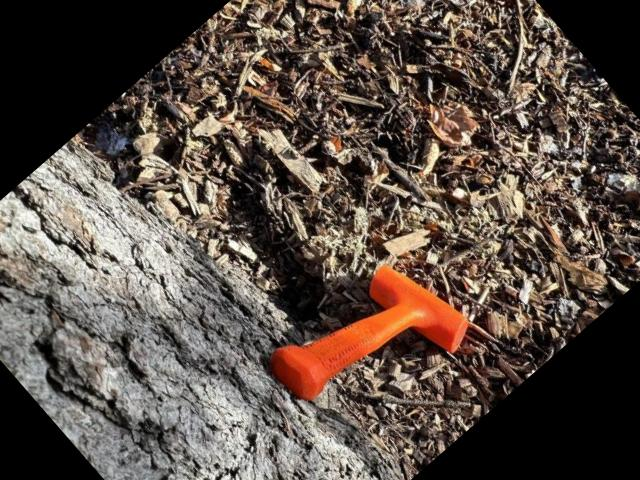hammer: (262, 241, 481, 452)
